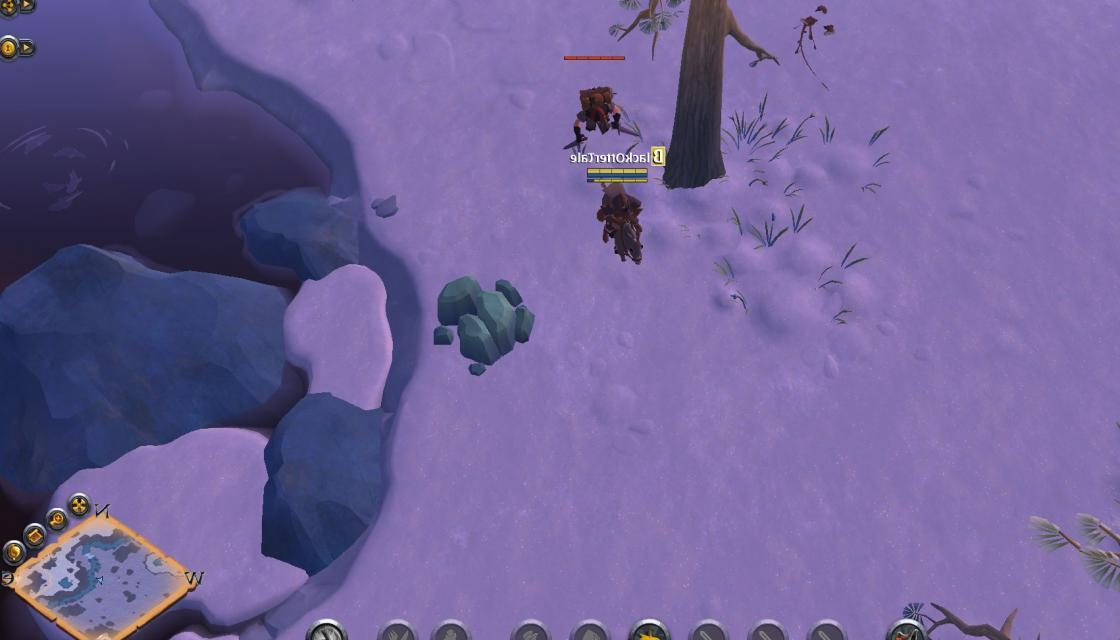sandstone: (430, 268, 539, 373)
